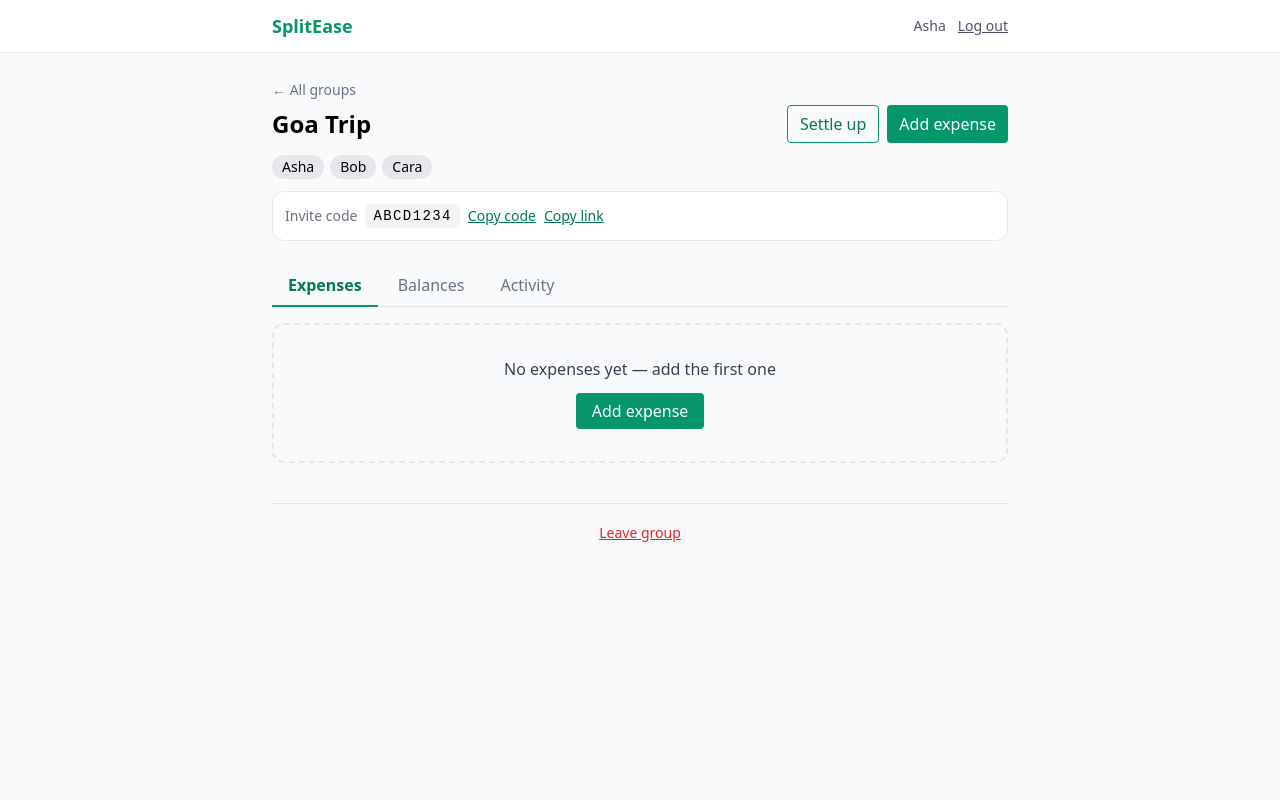
it: leave group › confirms, then leaves and returns to the dashboard
What coordinates should you click on to do the following:
click the button "Leave group"
I would click on:
 (640, 533)
Its box is [599, 523, 681, 543].
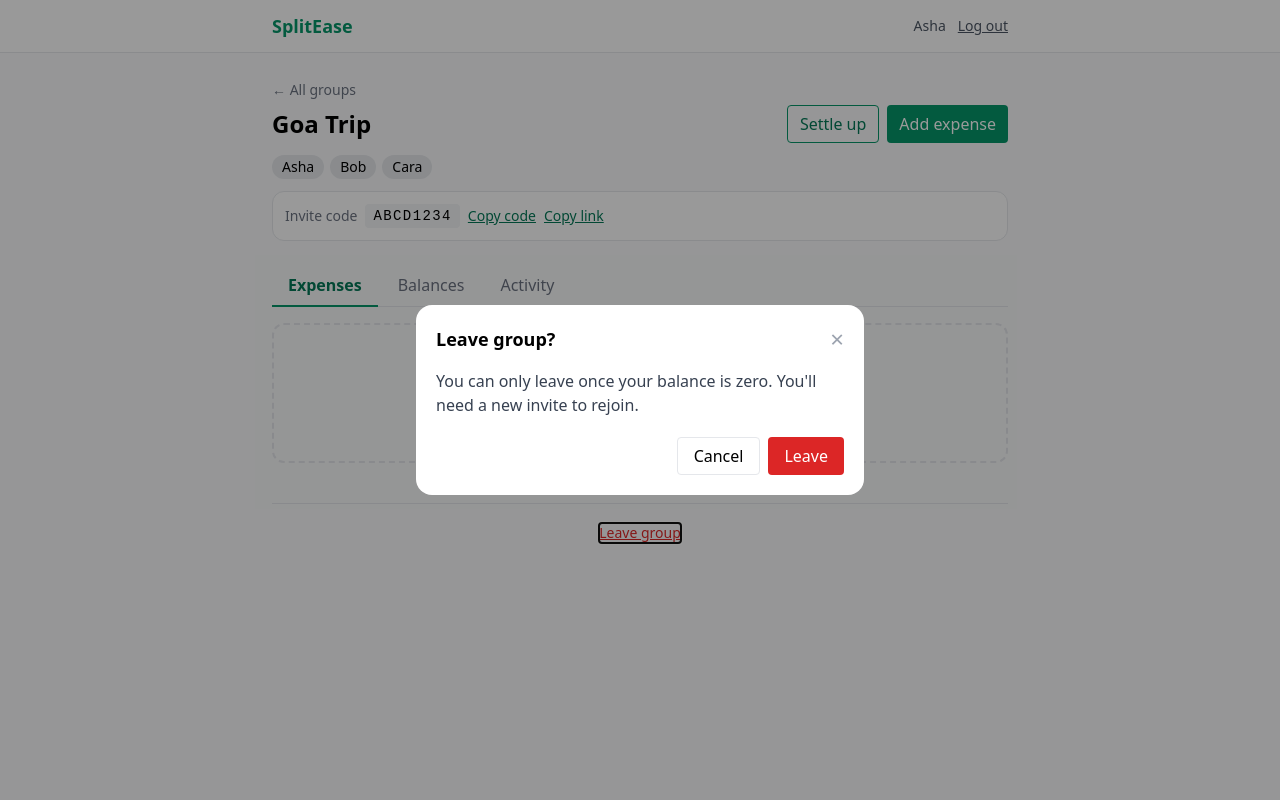
What coordinates should you click on to do the following:
click the button "Leave"
I would click on:
 (806, 456)
Its box is [768, 437, 844, 475].
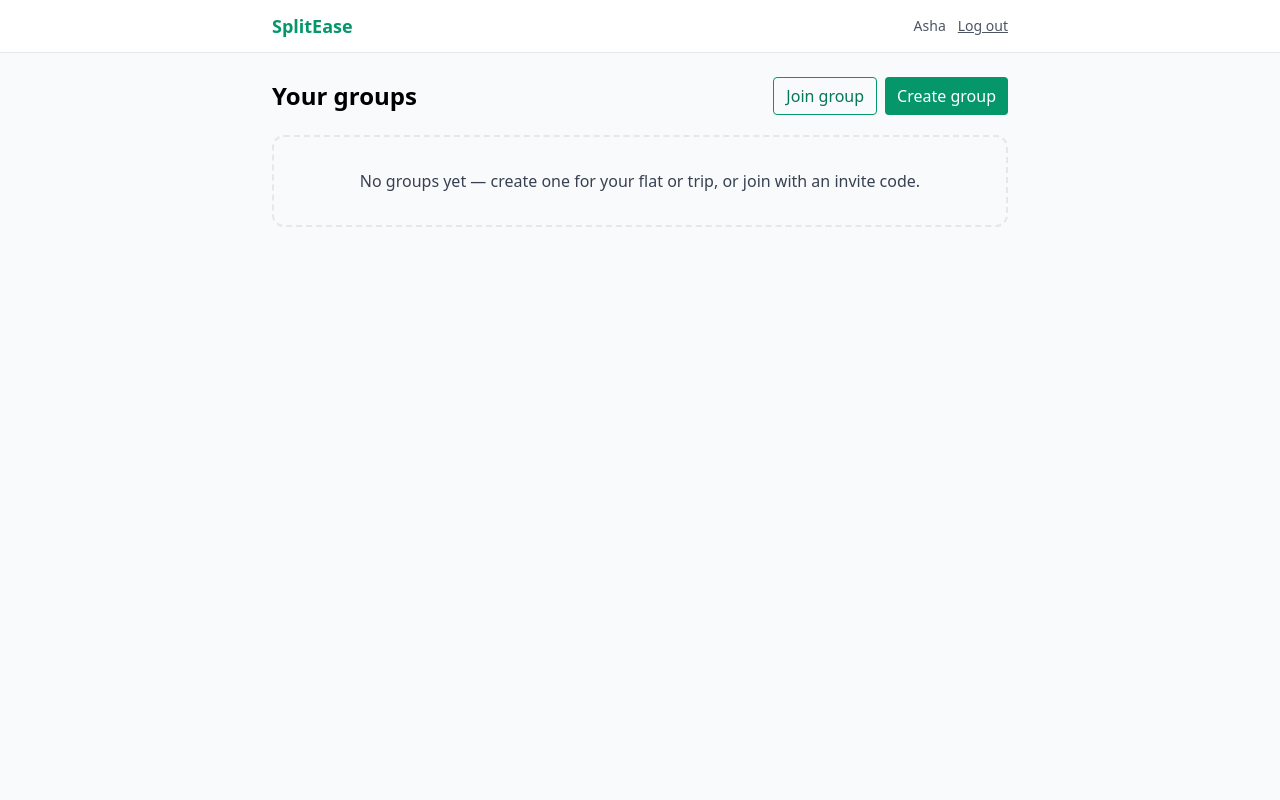
Expected: the heading "Your groups" is shown, [272, 80, 417, 112]
